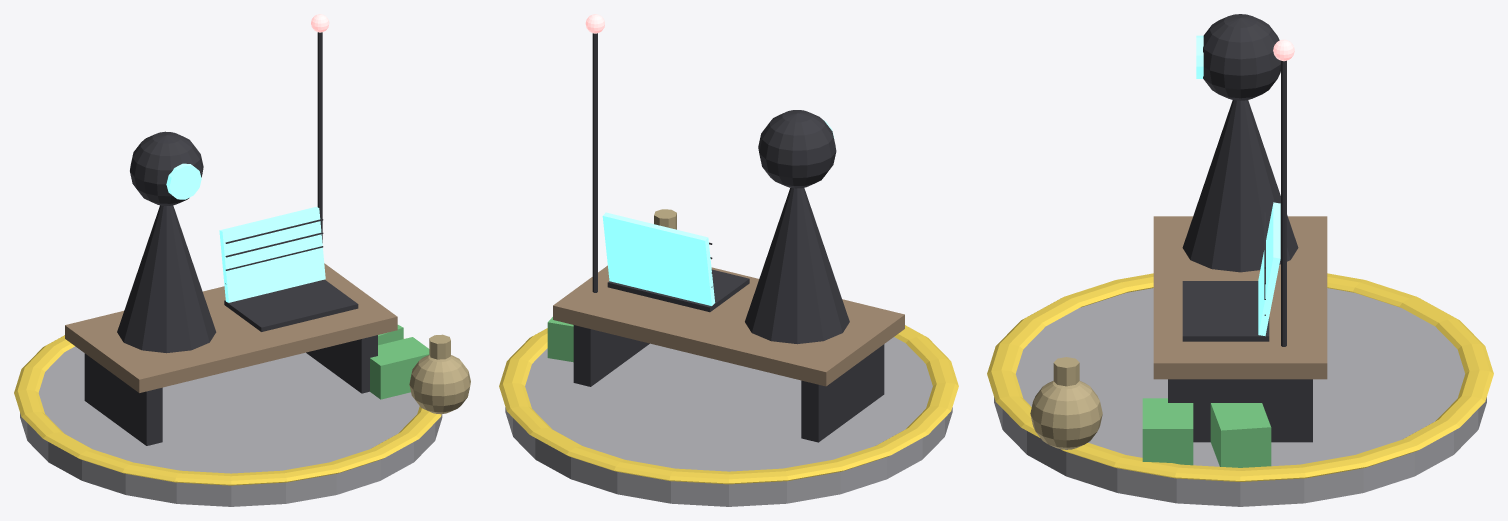
The model's file is Hacker_L2.fbx.
3 renders of one model, left to right at view 1: azimuth 30°, elevation 25°; view 2: azimuth 150°, elevation 25°; view 3: azimuth 270°, elevation 25°, orthographic. The views are drawn at different scales.
Parts seen in each view (by area): view 1: Hacker_L2.001; view 2: Hacker_L2.001; view 3: Hacker_L2.001.
Boxes of the visible parts, bbox=[...] form: Hacker_L2.001: bbox=[14, 14, 470, 506]; Hacker_L2.001: bbox=[499, 14, 958, 506]; Hacker_L2.001: bbox=[987, 14, 1493, 506].
Bounding box in the file's own units: 3.5 × 3.23 × 3.5.
